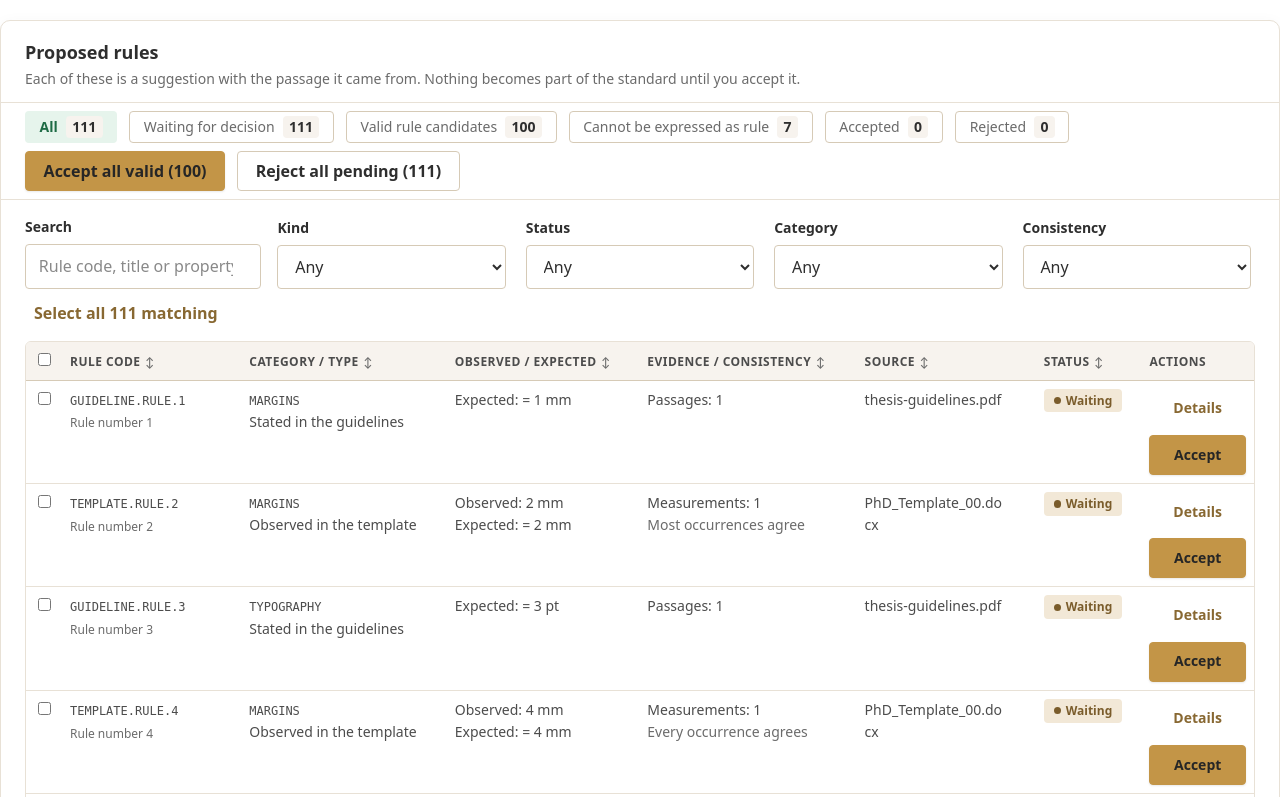
Test case: the review console with a 111-proposal reading › rejects the selected ones in one request, with the reason chosen
Expected: the text "GUIDELINE.RULE.1" is shown, [70,394,186,408]
Click the checkbox named "Select GUIDELINE.RULE.3" at (44, 605), box [38,598,51,611]
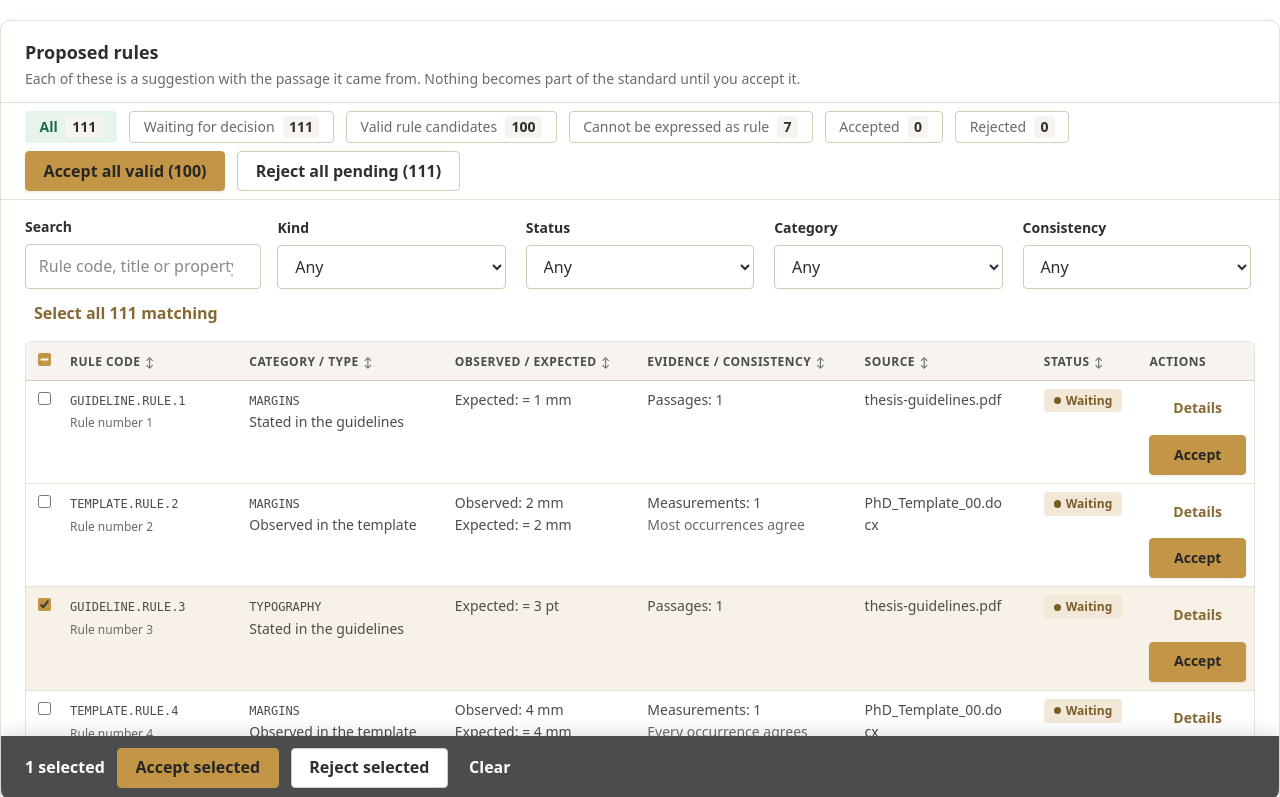
Click the checkbox named "Select TEMPLATE.RULE.4" at (44, 708), box [38,702,51,715]
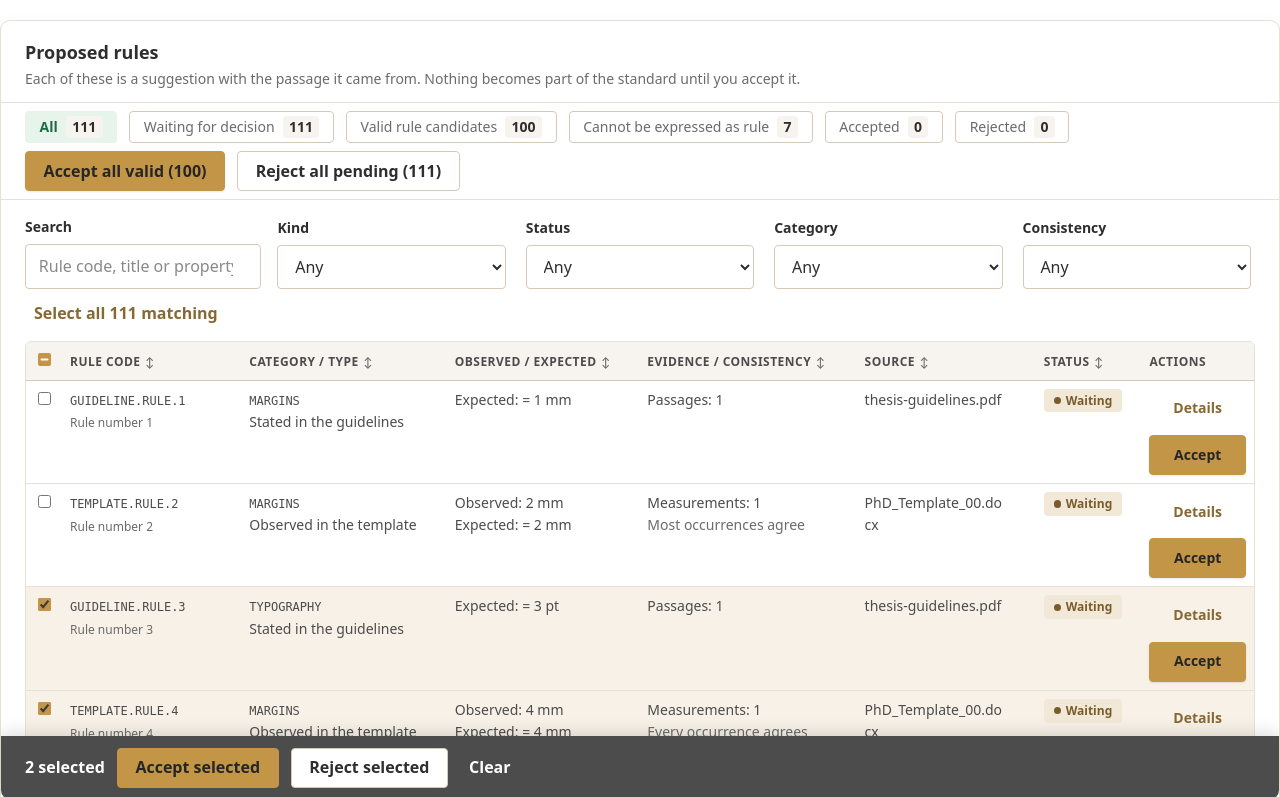
Click the button "Reject selected" at (369, 768), box [291,748,448,788]
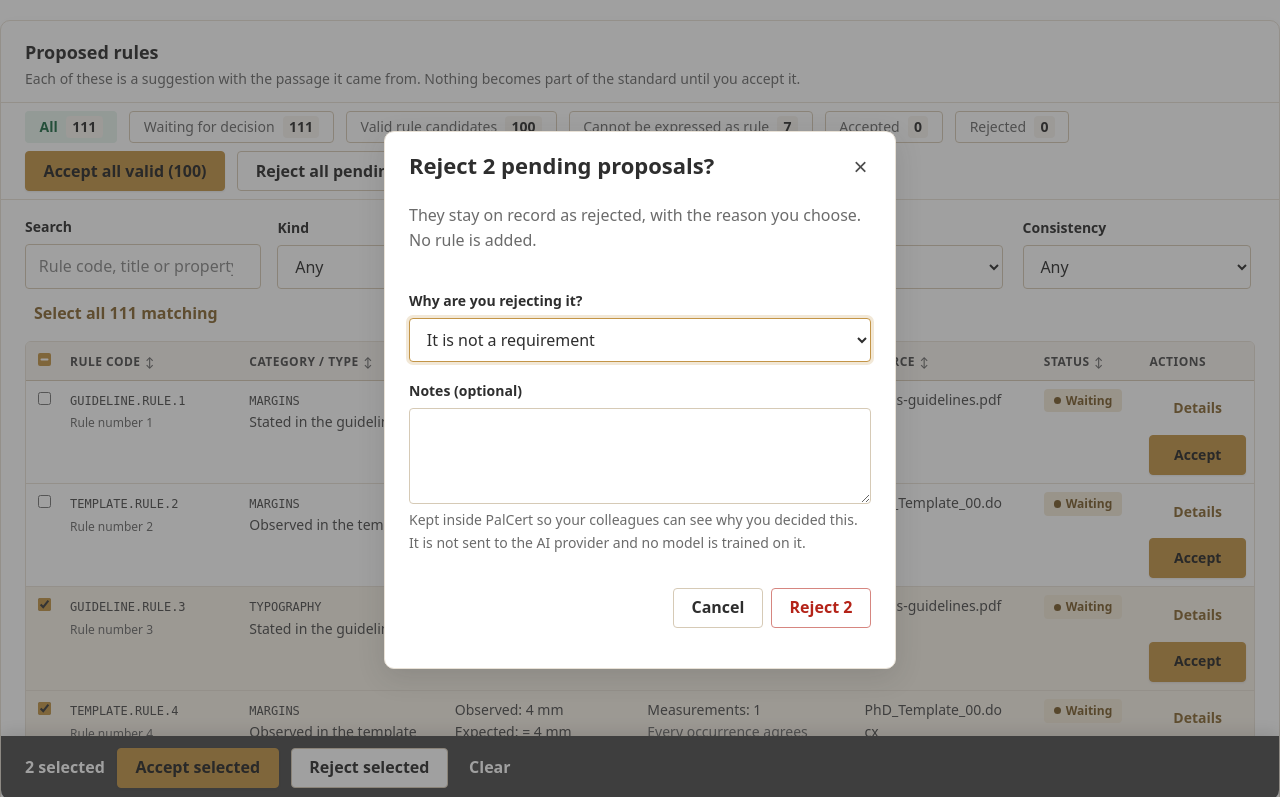
Expected: the dialog shows "Reject 2 pending proposals?", [409,150,714,180]
Select "Already covered by another rule" in the dropdown labelled "Why are you rejecting it?" at (640, 340), box [409,318,871,362]
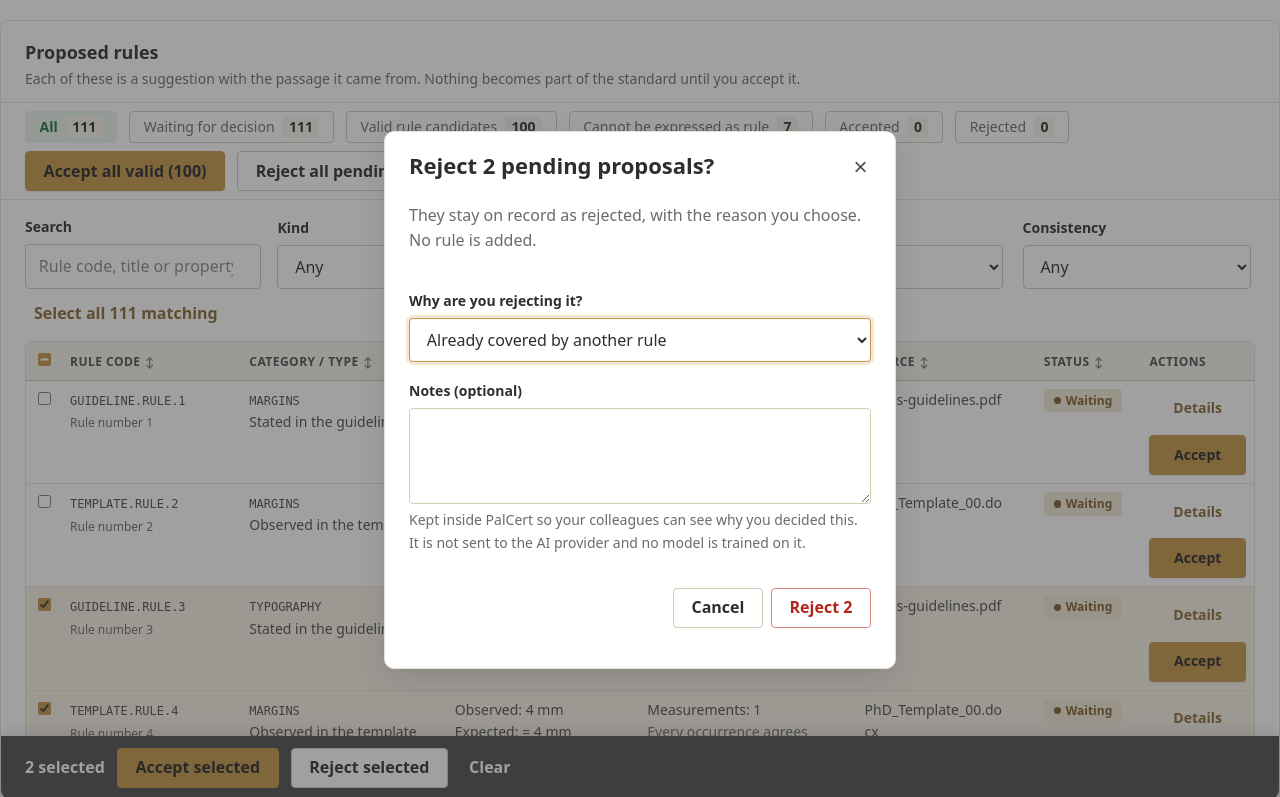
Click the button "Reject 2" at (821, 608), box [771,588,871,628]
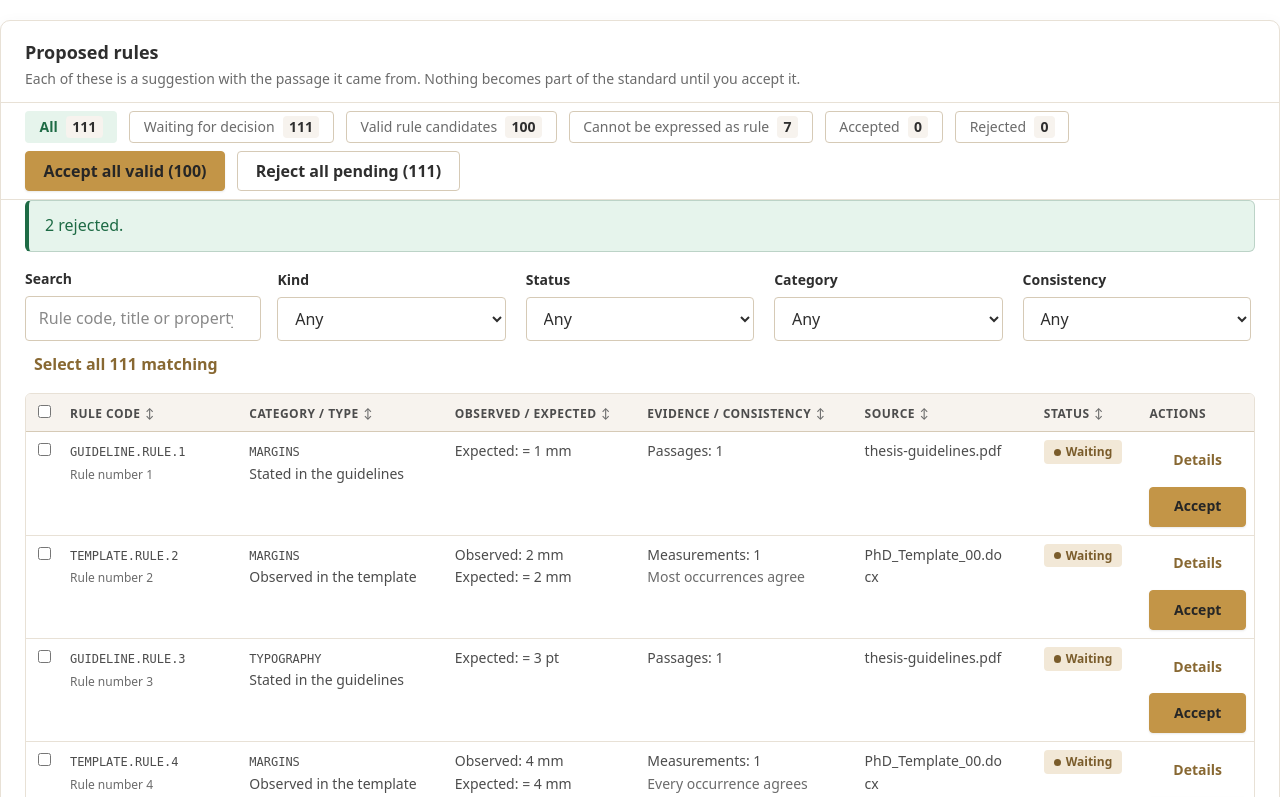
Expected: the text "2 rejected." is shown, [45,214,123,236]
